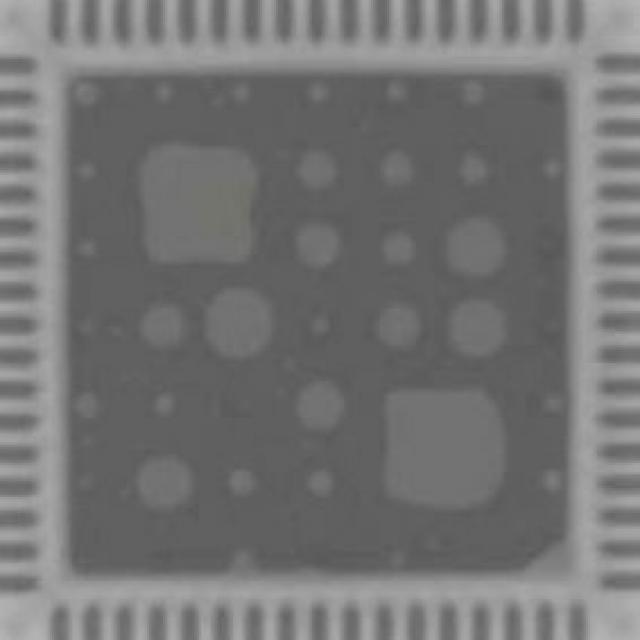component: (72, 77, 565, 572)
void: (384, 390, 509, 510), (140, 145, 258, 264), (206, 288, 274, 360), (448, 218, 507, 279), (450, 300, 509, 359), (138, 456, 194, 512), (296, 381, 346, 432), (375, 304, 423, 351), (142, 304, 188, 350), (296, 225, 341, 269), (296, 150, 339, 191), (382, 150, 414, 187), (461, 152, 491, 187), (387, 236, 416, 267), (228, 470, 258, 498), (308, 470, 335, 498), (75, 393, 97, 419), (543, 470, 565, 496), (154, 395, 176, 419), (310, 82, 330, 103), (312, 315, 330, 337), (389, 82, 407, 103), (547, 161, 563, 178)
